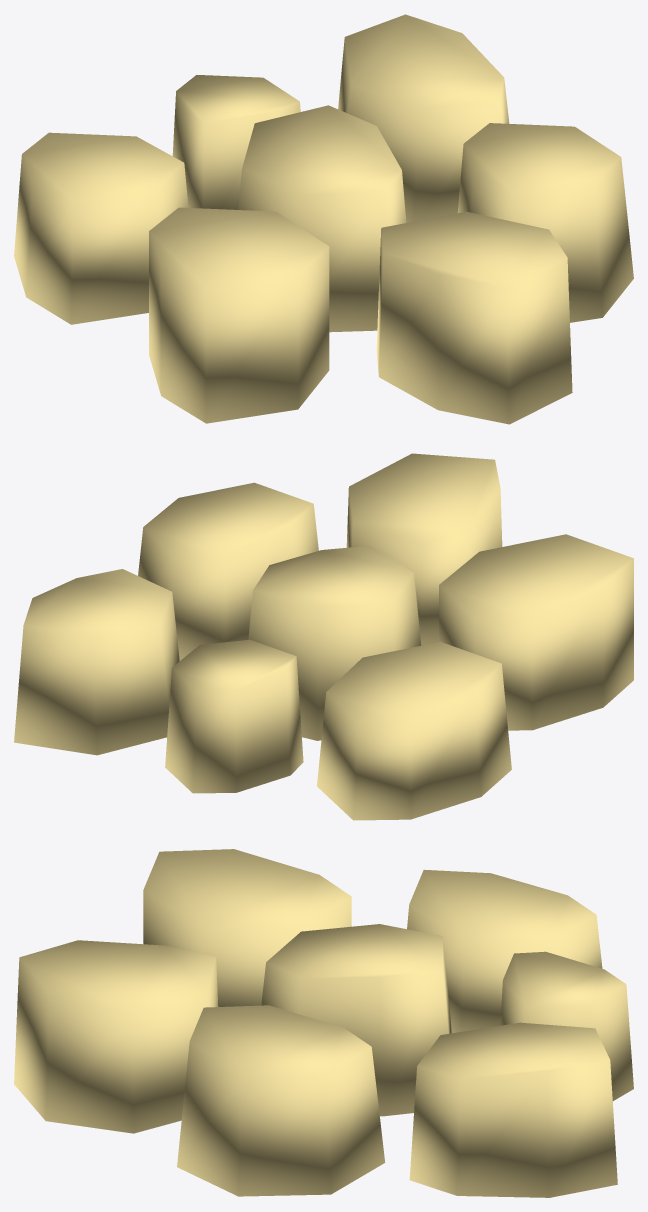
Rendered from Farm.glb.
The picture shows the model from 3 angles, top to bottom: view 1: azimuth 30°, elevation 25°; view 2: azimuth 150°, elevation 25°; view 3: azimuth 270°, elevation 25°; orthographic projection. The views are drawn at different scales.
Visible parts, largest first — view 1: FarmPlot; view 2: FarmPlot; view 3: FarmPlot.
Boxes of the visible parts, bbox=[...] form: FarmPlot: bbox=[14, 14, 633, 424]; FarmPlot: bbox=[14, 453, 633, 820]; FarmPlot: bbox=[14, 849, 633, 1197].
Bounding box in the file's own units: 2.44 × 0.6967 × 2.9.
